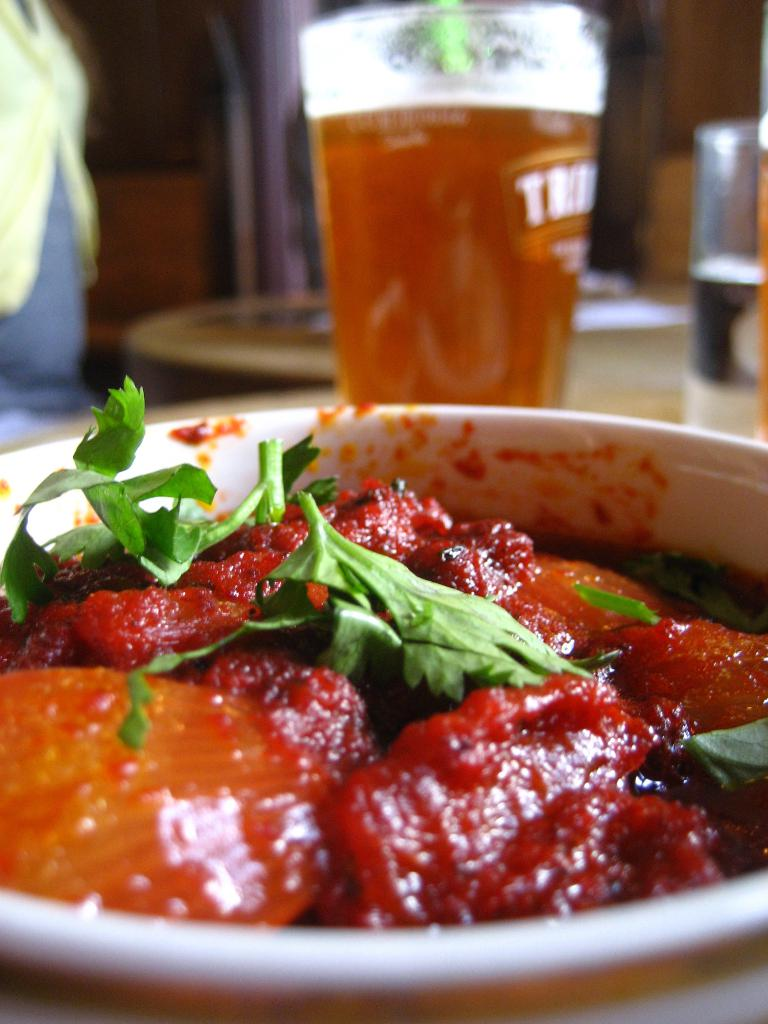Beer: (307, 90, 587, 410)
